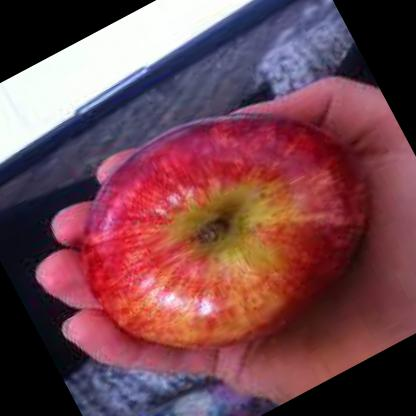apple: (35, 59, 412, 409)
